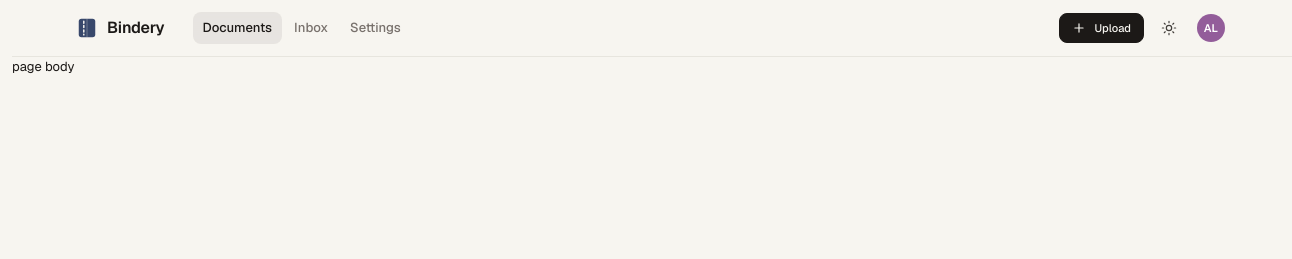
Scenario: App frame › opens an account menu with who is signed in, settings and sign out
Expected: the text "ada@nutrient.io" is not shown
Click the button with aria-label "Account" at point(1211, 28), box [1194,11,1228,45]
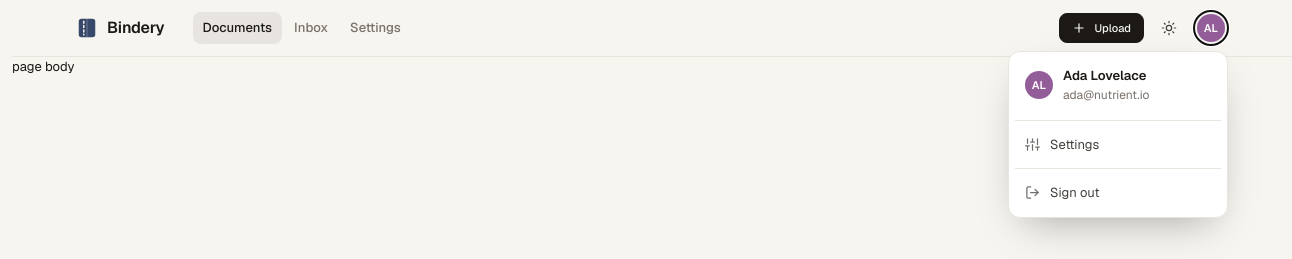
Result: the text "Ada Lovelace" is shown at [1063,66,1149,86]
Result: the text "ada@nutrient.io" is shown at [1063,86,1149,104]
Result: the menu item "Sign out" is shown at [1015,175,1221,210]
